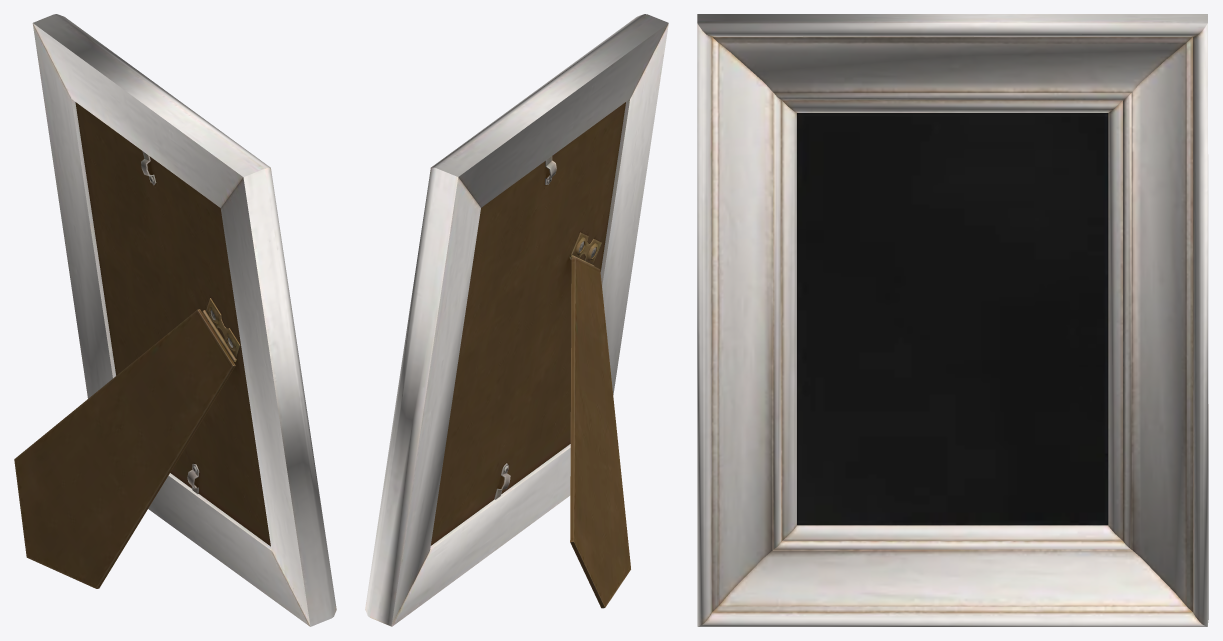
Rendered from standing_picture_frame_02.glb.
The picture shows the model from 3 angles, left to right: view 1: azimuth 30°, elevation 25°; view 2: azimuth 150°, elevation 25°; view 3: azimuth 270°, elevation 25°; orthographic projection. The views are drawn at different scales.
Visible parts, largest first — view 1: standing_picture_frame_02; view 2: standing_picture_frame_02; view 3: standing_picture_frame_02.
Part boxes in pixels (bbox=[...]): standing_picture_frame_02: bbox=[14, 14, 336, 626]; standing_picture_frame_02: bbox=[365, 14, 668, 626]; standing_picture_frame_02: bbox=[697, 14, 1208, 626].
Bounding box in the file's own units: 0.102 × 0.2661 × 0.2166.
Materials: 3 (3 with a texture image).
